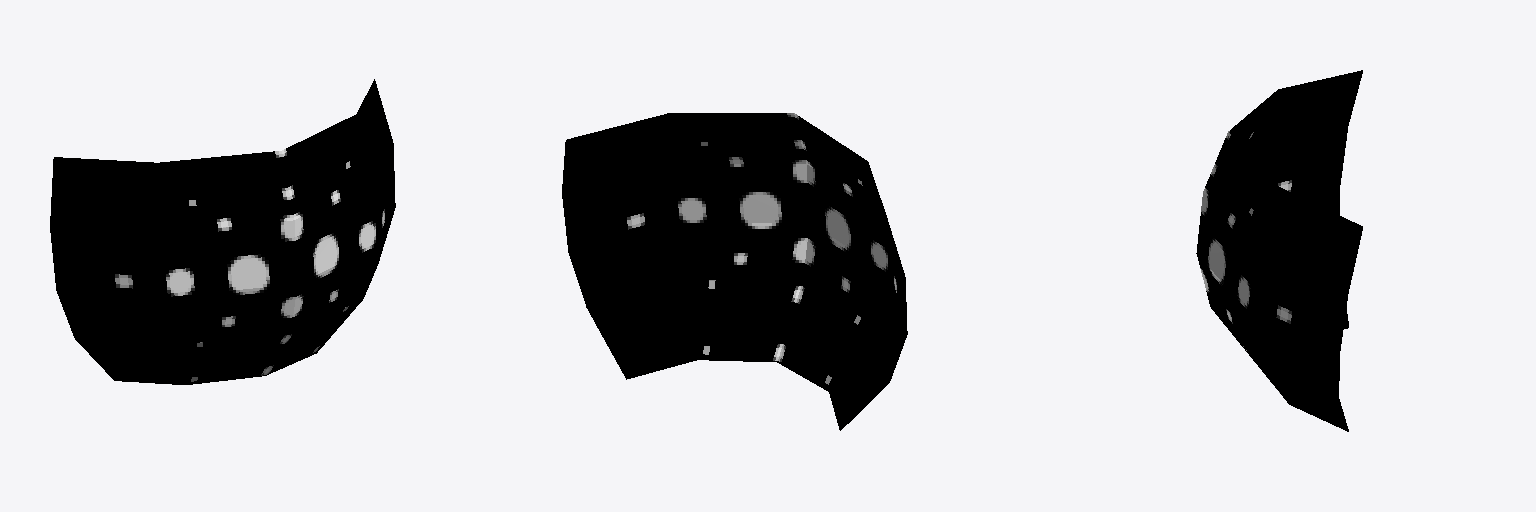
The picture shows the model from 3 angles: view 1: azimuth 30°, elevation 25°; view 2: azimuth 150°, elevation 25°; view 3: azimuth 270°, elevation 25°; orthographic projection.
Parts seen in each view (by area): view 1: polygon0; view 2: polygon0; view 3: polygon0.
Boxes of the visible parts, x1=… form: polygon0: x1=50, y1=79, x2=395, y2=384; polygon0: x1=562, y1=113, x2=907, y2=430; polygon0: x1=1196, y1=70, x2=1362, y2=431.
Size of the model in its own units: 4.04 by 2.79 by 1.7.
1 materials, 1 textured.